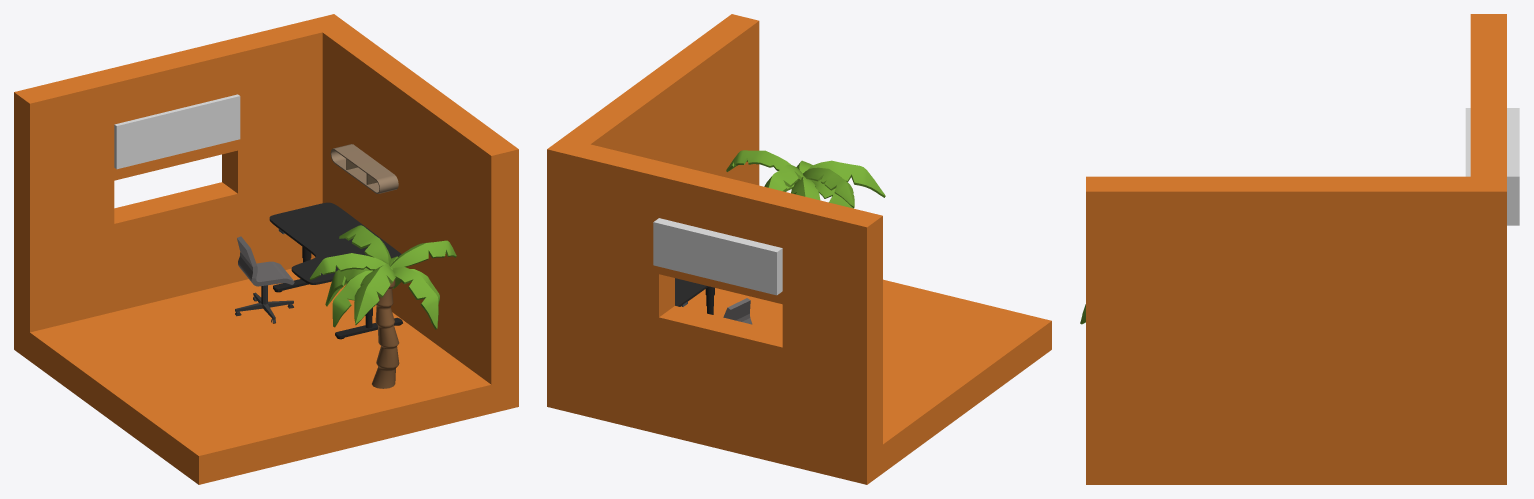
3 renders of one model, left to right at view 1: azimuth 30°, elevation 25°; view 2: azimuth 150°, elevation 25°; view 3: azimuth 270°, elevation 25°, orthographic. The views are drawn at different scales.
Visible parts, largest first — view 1: Plane, Environment_PalmTree_3, Cube, Plane.001_Plane.002, Node, SM_Shelf:SM_Shelf1; view 2: Plane, Cube, Environment_PalmTree_3, Plane.001_Plane.002; view 3: Plane, Cube.
Part boxes in pixels (bbox=[...]): Plane: bbox=[14, 14, 518, 484]; Environment_PalmTree_3: bbox=[310, 225, 456, 388]; Cube: bbox=[114, 94, 240, 169]; Plane.001_Plane.002: bbox=[269, 202, 401, 284]; Node: bbox=[235, 236, 294, 323]; SM_Shelf:SM_Shelf1: bbox=[330, 144, 398, 193]; Plane: bbox=[547, 14, 1051, 484]; Cube: bbox=[653, 218, 782, 295]; Environment_PalmTree_3: bbox=[726, 150, 885, 208]; Plane.001_Plane.002: bbox=[675, 278, 708, 306]; Plane: bbox=[1086, 14, 1506, 484]; Cube: bbox=[1465, 108, 1519, 225].
Size of the model in its own units: 4.58 by 3.52 by 4.78.
11 materials, 1 textured.
